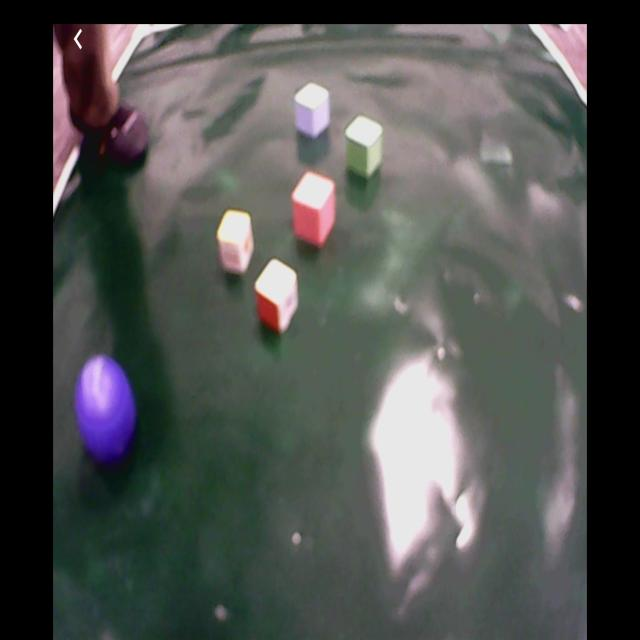ball: (77, 356, 138, 464)
